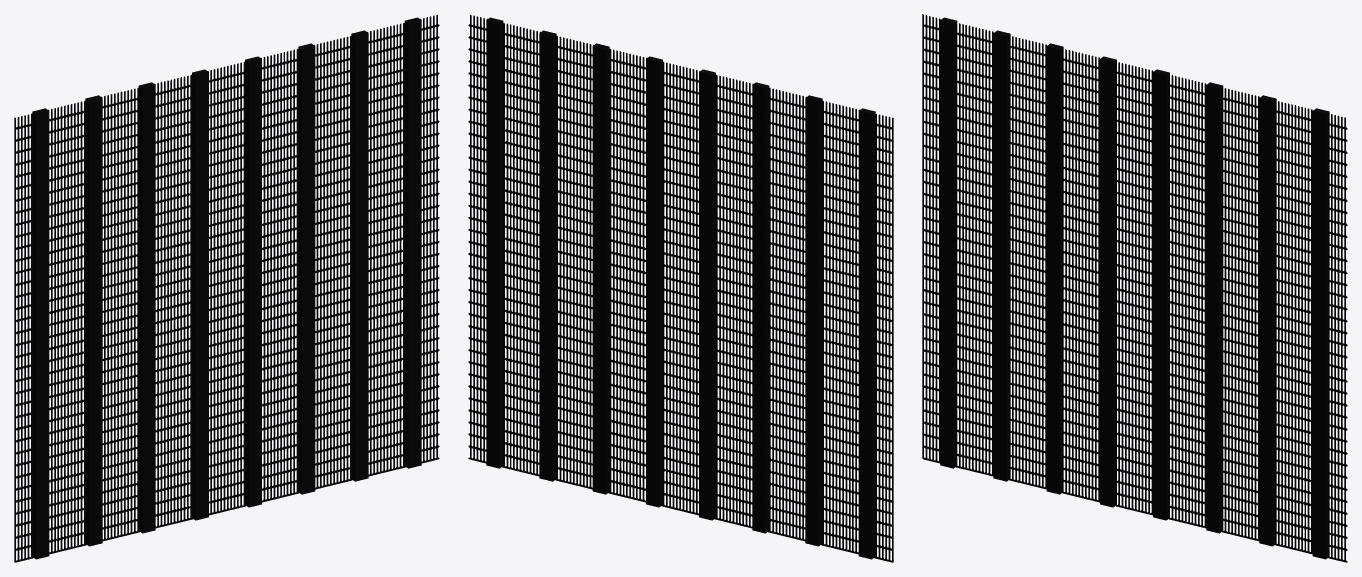
Rendered from nyc_subway_ticketing_area_fence_1.obj.
The picture shows the model from 3 angles, left to right: view 1: azimuth 30°, elevation 25°; view 2: azimuth 150°, elevation 25°; view 3: azimuth 330°, elevation 25°; orthographic projection.
Visible parts, largest first — view 1: cube; view 2: cube; view 3: cube.
Part boxes in pixels (<box>): cube: <box>14,14,439,562</box>; cube: <box>468,14,893,562</box>; cube: <box>922,14,1347,562</box>.
Size of the model in its own units: 1 by 1 by 0.0156.
1 material, 1 textured.
